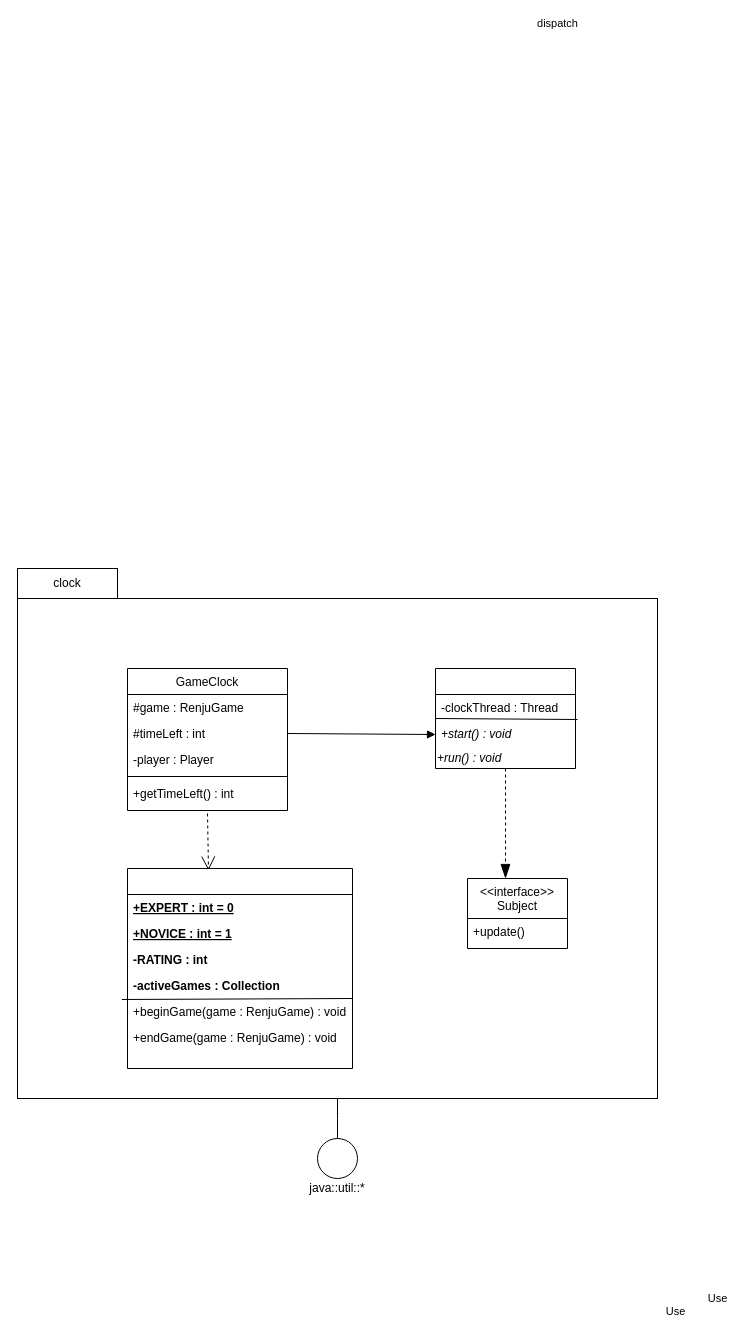
This 745x1336 diagram has some shape labels left out. Here are the shapes that lost their labels. From the top down, the box of each, then its label:
(434, 668, 576, 768): MasterClock
(126, 868, 352, 1068): Player
